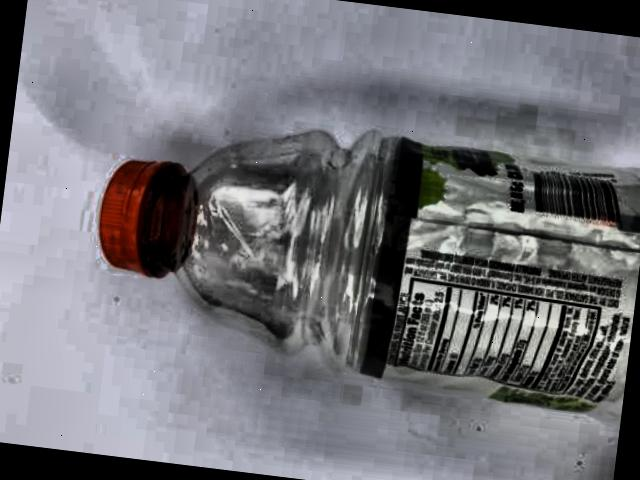Bottles: (81, 96, 640, 420)
